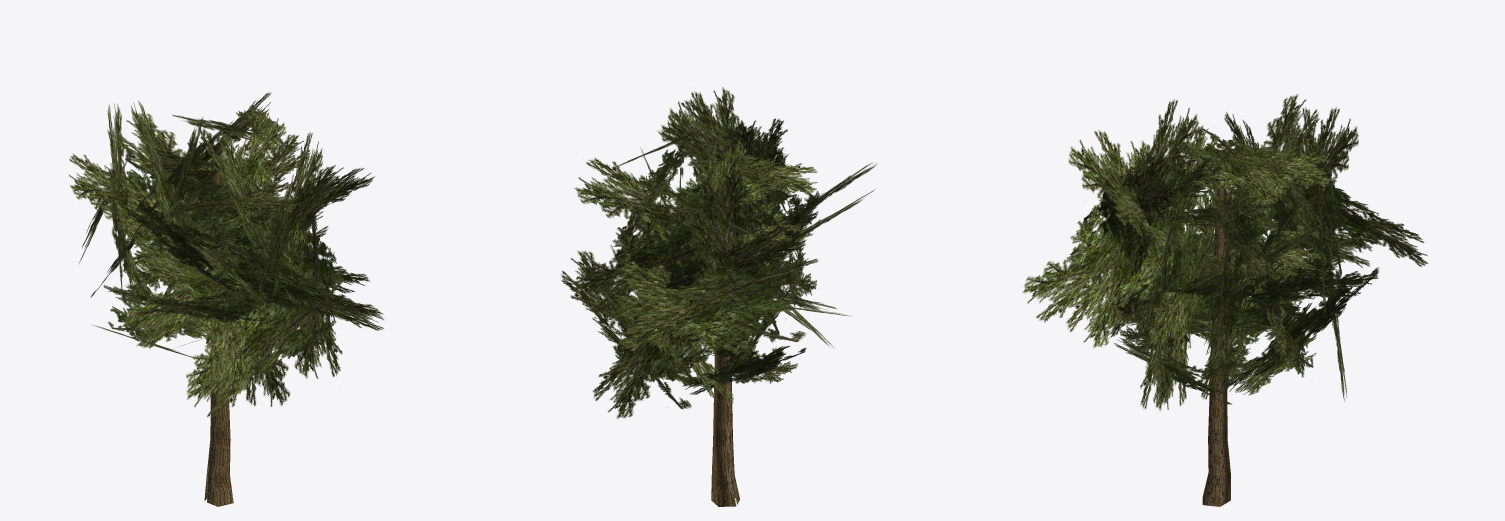
Rendered from tree_teste4.glb.
3 renders of one model, left to right at view 1: azimuth 30°, elevation 25°; view 2: azimuth 150°, elevation 25°; view 3: azimuth 270°, elevation 25°, orthographic. The views are drawn at different scales.
Parts seen in each view (by area): view 1: Cone, Tree_Pine_T1_Tree_Pine_0.002; view 2: Cone, Tree_Pine_T1_Tree_Pine_0.002; view 3: Cone, Tree_Pine_T1_Tree_Pine_0.002.
Part boxes in pixels (x1,y1,x2,y2): Cone: (69, 92, 384, 418); Tree_Pine_T1_Tree_Pine_0.002: (204, 168, 233, 506); Cone: (561, 87, 877, 418); Tree_Pine_T1_Tree_Pine_0.002: (711, 183, 739, 506); Cone: (1022, 94, 1428, 411); Tree_Pine_T1_Tree_Pine_0.002: (1202, 173, 1230, 506).
Bounding box in the file's own units: 12.39 × 14.11 × 14.48.
2 materials, 2 textured.
